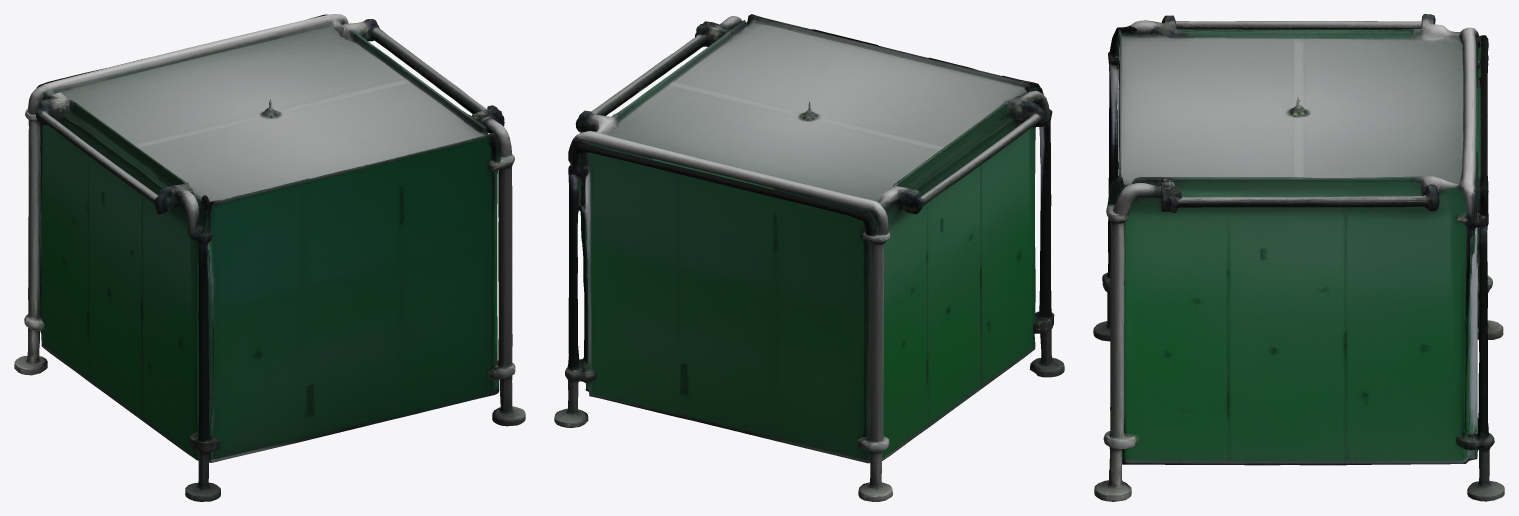
Rendered from sidewalk-shed.glb.
3 views of the same model, side by side, from view 1: azimuth 30°, elevation 25°; view 2: azimuth 150°, elevation 25°; view 3: azimuth 270°, elevation 25° (orthographic). The views are drawn at different scales.
Parts seen in each view (by area): view 1: geometry_0; view 2: geometry_0; view 3: geometry_0.
Part boxes in pixels (x1=…): geometry_0: x1=14, y1=14, x2=525, y2=501; geometry_0: x1=554, y1=14, x2=1064, y2=501; geometry_0: x1=1093, y1=14, x2=1504, y2=501.
Size of the model in its own units: 0.5133 by 0.4174 by 0.4866.
1 material, 1 textured.
